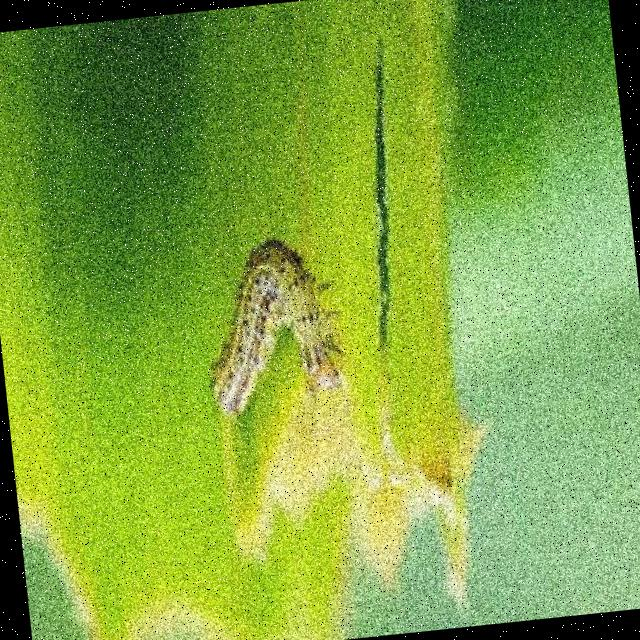worm: (196, 233, 352, 421)
